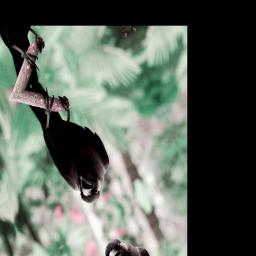Crow: (22, 63, 121, 216)
